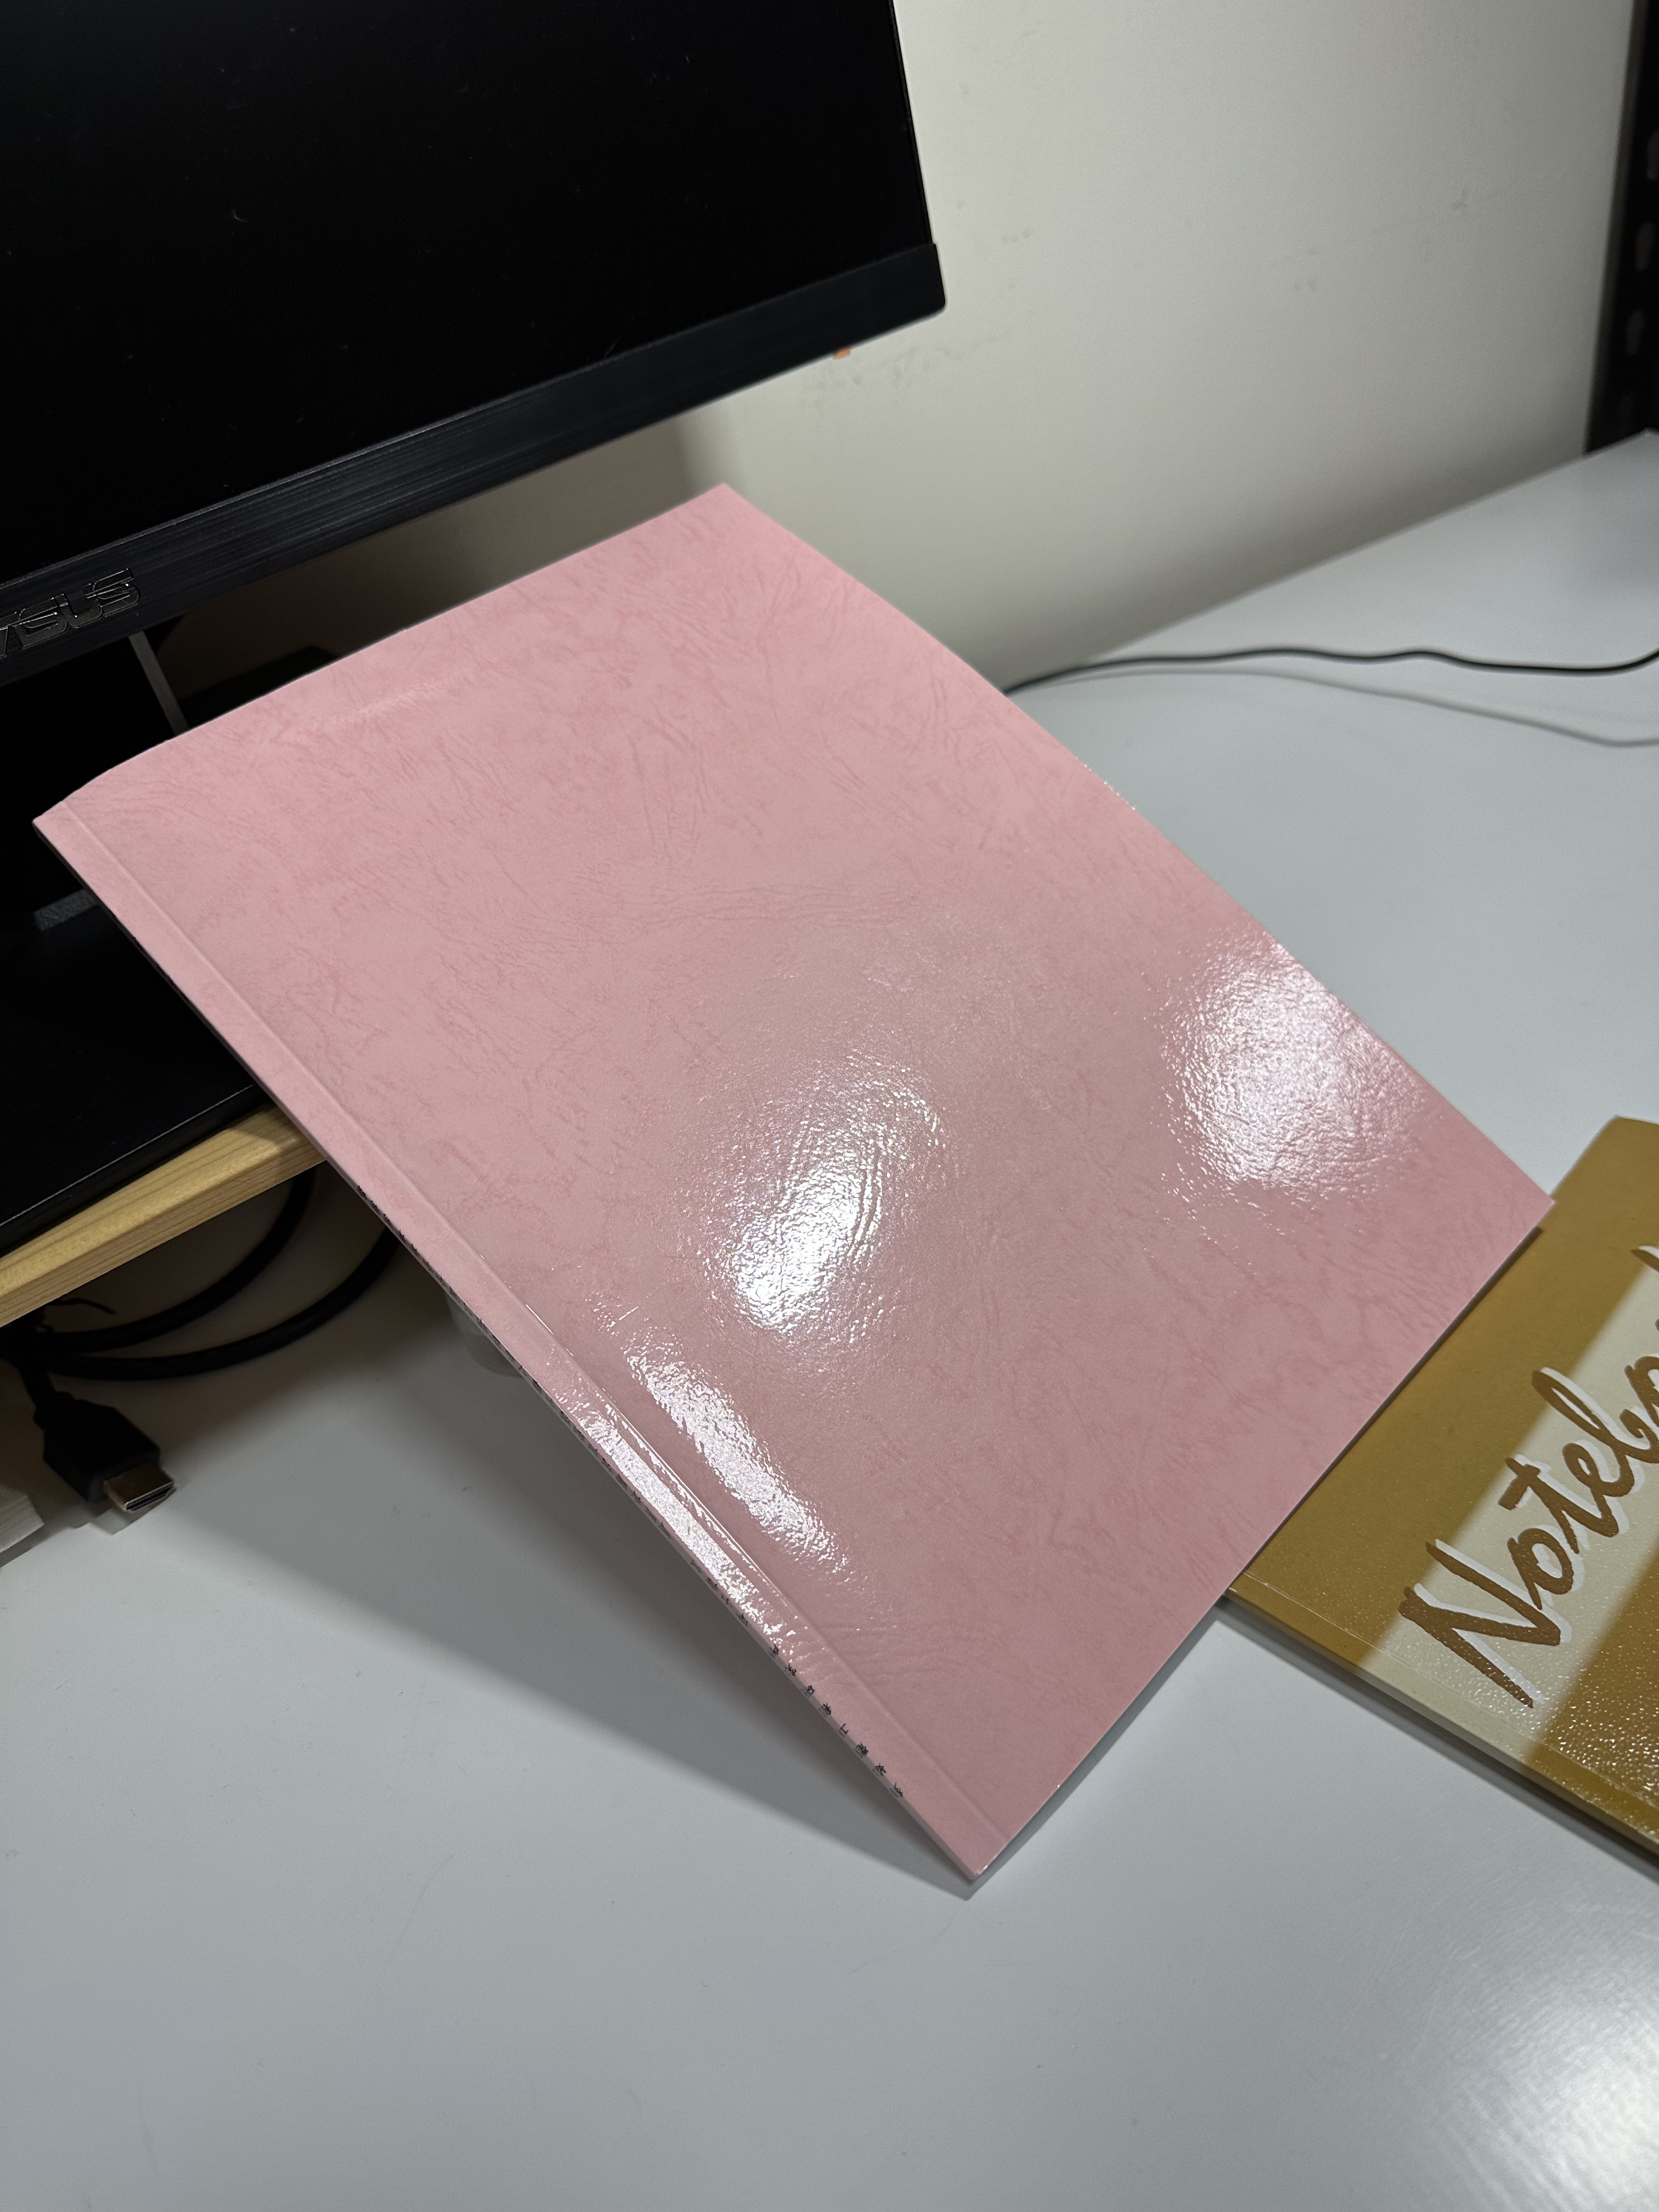book: (31, 479, 1565, 1890)
